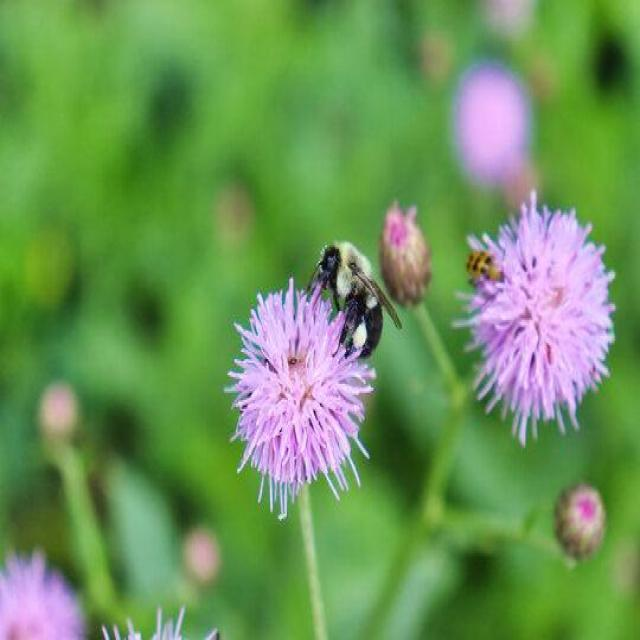gusano_verde: (464, 246, 507, 297)
